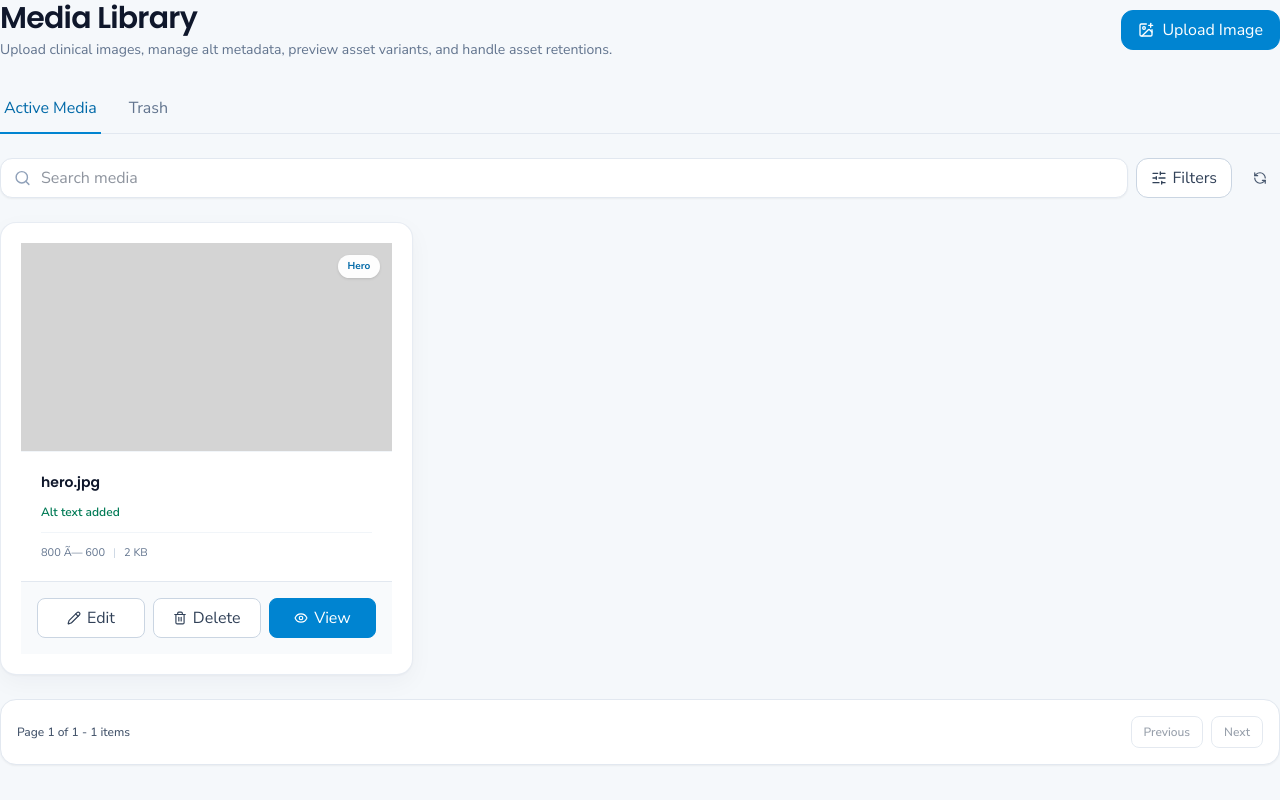
Scenario: MediaPage › renders active media list and opens preview
The image size is (1280, 800).
Expected: the button "Active Media" is shown, [0,84,101,134]
Expected: the button "Trash" is shown, [125,84,172,134]
Step 1. Click the button "View" → click(322, 618), box [268,598,376,638]
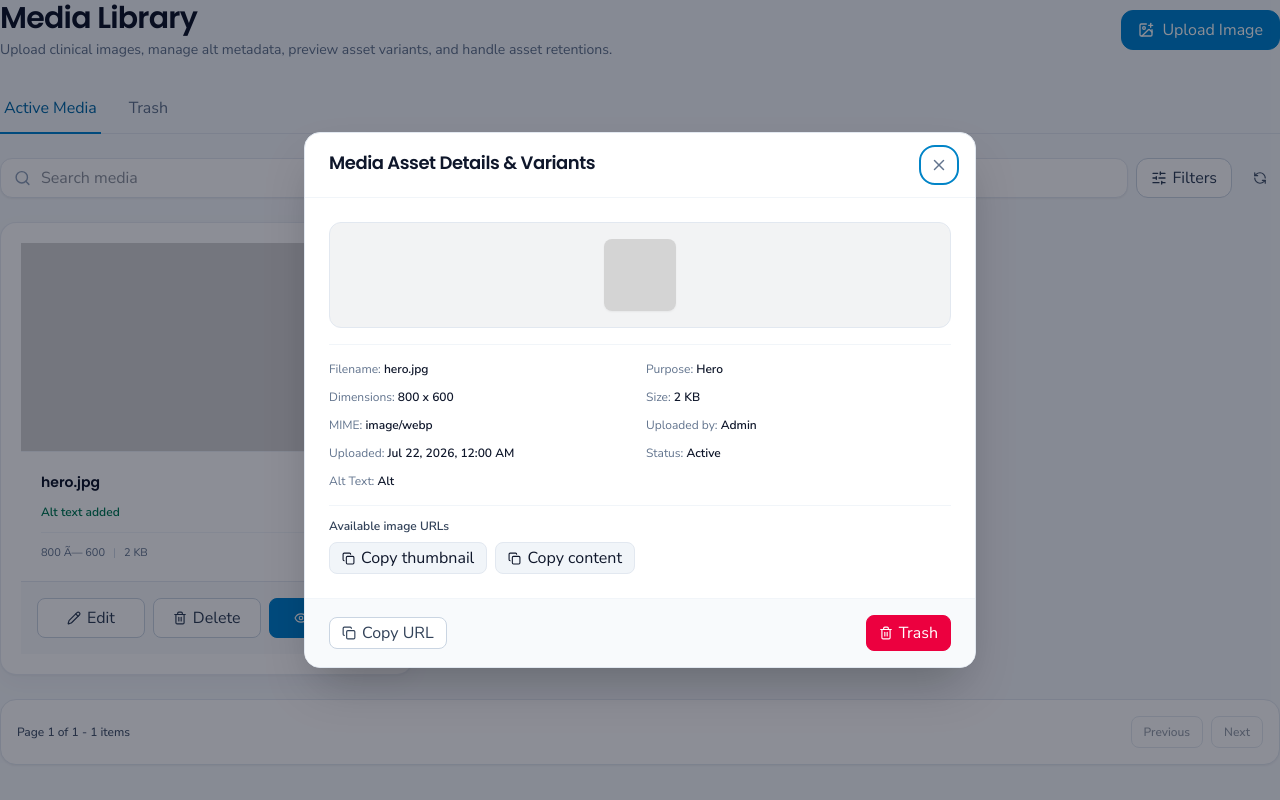
Now the dialog "Media Asset Details" is shown, box [304,132,976,668]
